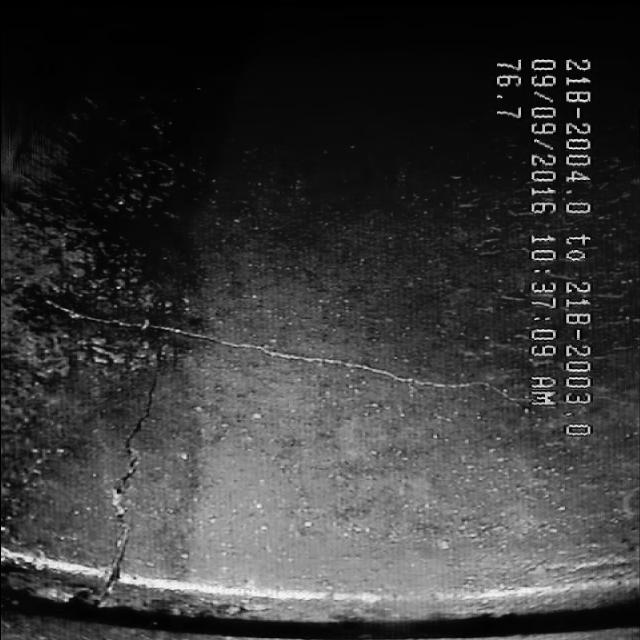Crack: (80, 300, 468, 390), (84, 407, 179, 561)
